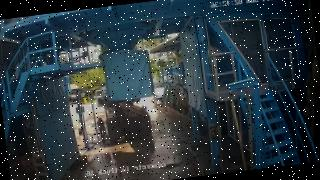cement_mixer_truck: (97, 83, 151, 139)
